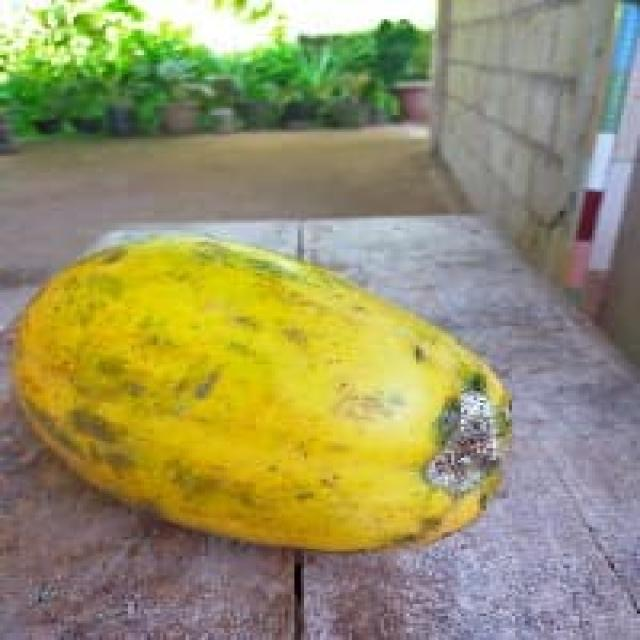Pepaya: (7, 227, 516, 554)
